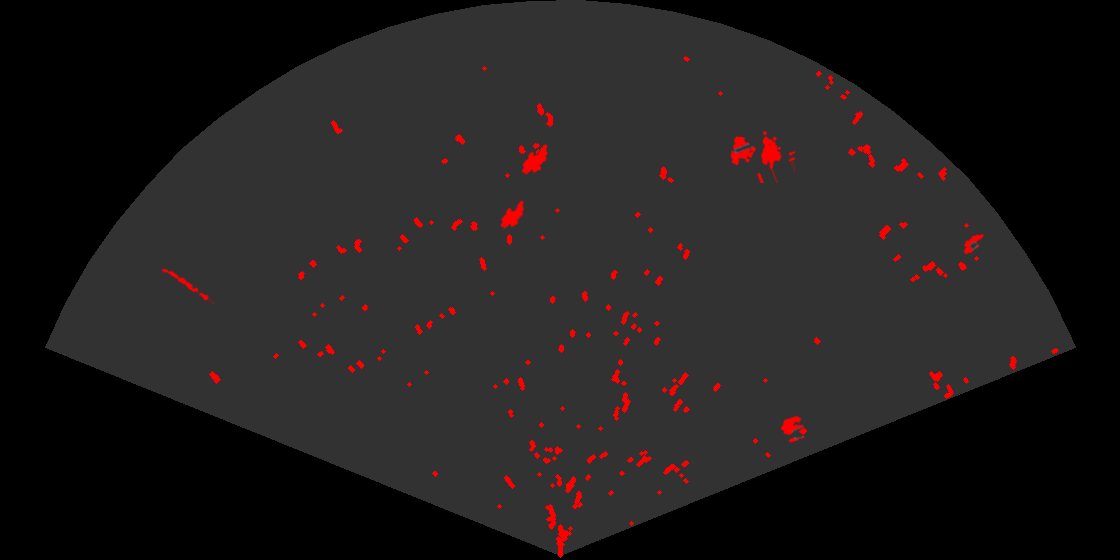AUV: (520, 142, 549, 176), (956, 228, 986, 256), (499, 199, 526, 230)
ball: (779, 414, 806, 444)
cage: (729, 129, 795, 183)
chain: (159, 266, 215, 304)
